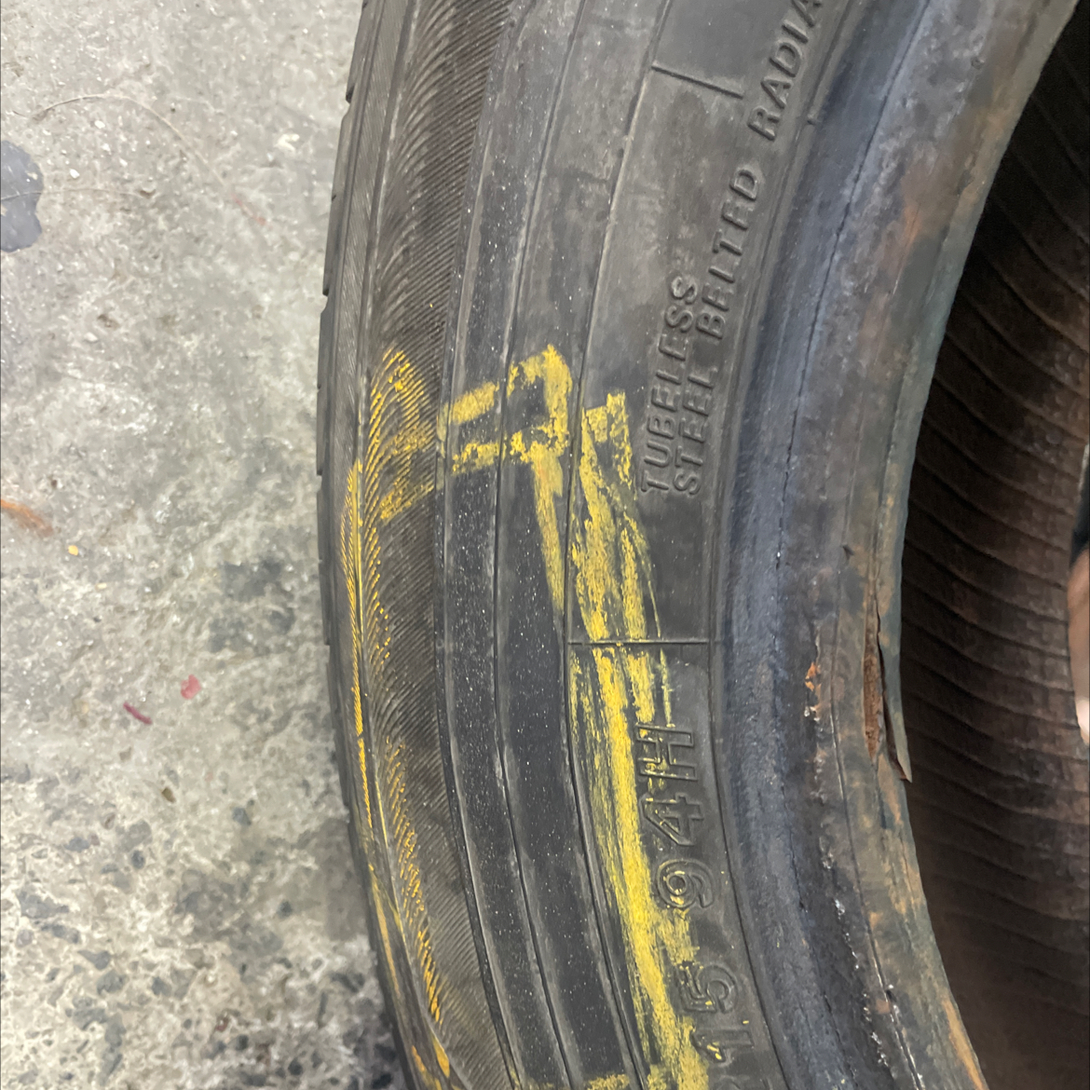bead_damage: (836, 545, 922, 840)
